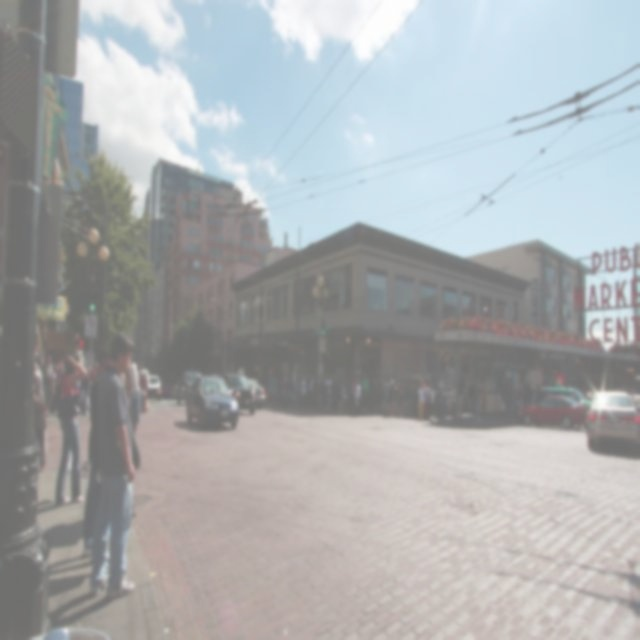pessoa: (87, 328, 137, 599), (82, 337, 112, 559), (54, 350, 88, 506), (54, 348, 87, 507), (307, 370, 362, 410), (27, 386, 47, 474), (32, 356, 48, 462), (124, 356, 140, 434), (512, 378, 542, 408), (41, 363, 57, 416), (118, 362, 136, 407), (80, 364, 94, 417), (137, 367, 151, 412), (438, 372, 448, 422), (478, 380, 488, 427), (417, 378, 427, 422), (424, 374, 436, 406), (362, 368, 371, 410), (387, 376, 396, 418), (450, 379, 458, 422), (32, 340, 42, 364), (57, 358, 65, 388), (90, 361, 100, 384), (300, 372, 306, 404)
